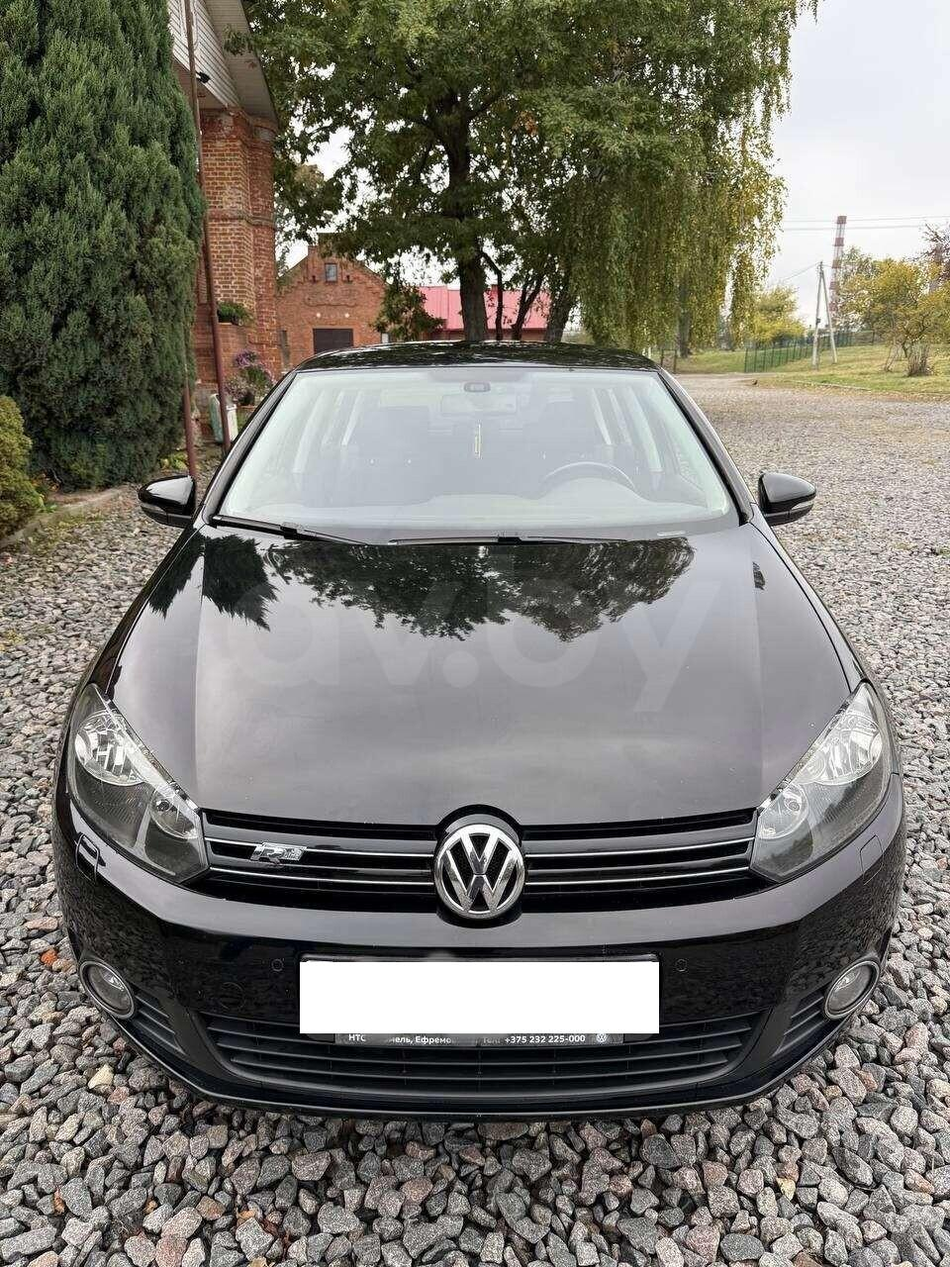Golf_2008-2013: (45, 325, 908, 1124)
